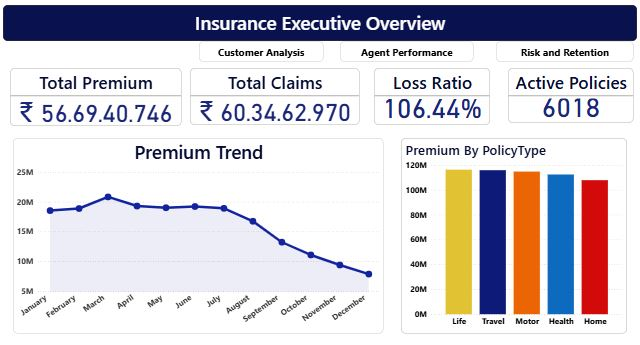

The page's visual inventory and layout, read from the dashboard file:
{"tool":"powerbi","page":{"name":"Insurance Executive Overview","canvas":[1280,720],"ordinal":0},"visuals":[{"type":"lineChart","title":"Premium Trend","fields":{"Category":["Dim_date.Date.Variation.Date Hierarchy.Month"],"Y":["Calculations.Total Premium"]},"box":[26.9,287.2,740.8,391.4],"z":0},{"type":"textbox","box":[5,21.8,1268.2,72.2],"z":1000},{"type":"clusteredColumnChart","title":"Premium By PolicyType","fields":{"Category":["Dim_Policy.PolicyType"],"Y":["Calculations.Total Premium"]},"box":[802.9,287.2,451.9,391.4],"z":2000},{"type":"group","id":"g1","title":"Group 1","box":[20.2,147.8,1248.1,115.9],"z":4000},{"type":"actionButton","title":"Home","box":[398.1,94.1,248.6,42],"z":5000},{"type":"actionButton","title":"Home","box":[680.3,94.1,267.1,42],"z":6000},{"type":"actionButton","title":"Home","box":[992.8,94.1,275.5,42],"z":7000},{"type":"card","title":"Total Premium","fields":{"Values":["Fact_Premiums.Total Premium"]},"box":[20.2,147.8,342.6,115.9],"z":7000,"group":"g1"},{"type":"card","title":"Total Claims","fields":{"Values":["Fact_Claims.Total Claims amount"]},"box":[380,147.8,339.1,114.5],"z":8000,"group":"g1"},{"type":"card","title":"Loss Ratio","fields":{"Values":["Fact_Premiums.Loss Ratio"]},"box":[748.4,147.8,232.4,114.5],"z":9000,"group":"g1"},{"type":"card","title":"Active Policies","fields":{"Values":["Fact_Policies.active policys"]},"box":[1016.9,147.8,251.3,110.1],"z":10000,"group":"g1"}]}

Visuals, with their boxes on the page's 1280x720 design canvas (x1, y1, x2, y2). These are canvas units, not pixel positions in the 640x345 screenshot, which may show the page scaled, cropped or inside an application window:
"Premium Trend" lineChart: <bbox>27, 287, 768, 679</bbox>
textbox: <bbox>5, 22, 1273, 94</bbox>
"Premium By PolicyType" clusteredColumnChart: <bbox>803, 287, 1255, 679</bbox>
"Group 1" group: <bbox>20, 148, 1268, 264</bbox>
"Home" actionButton: <bbox>398, 94, 647, 136</bbox>
"Home" actionButton: <bbox>680, 94, 947, 136</bbox>
"Home" actionButton: <bbox>993, 94, 1268, 136</bbox>
"Total Premium" card: <bbox>20, 148, 363, 264</bbox>
"Total Claims" card: <bbox>380, 148, 719, 262</bbox>
"Loss Ratio" card: <bbox>748, 148, 981, 262</bbox>
"Active Policies" card: <bbox>1017, 148, 1268, 258</bbox>
